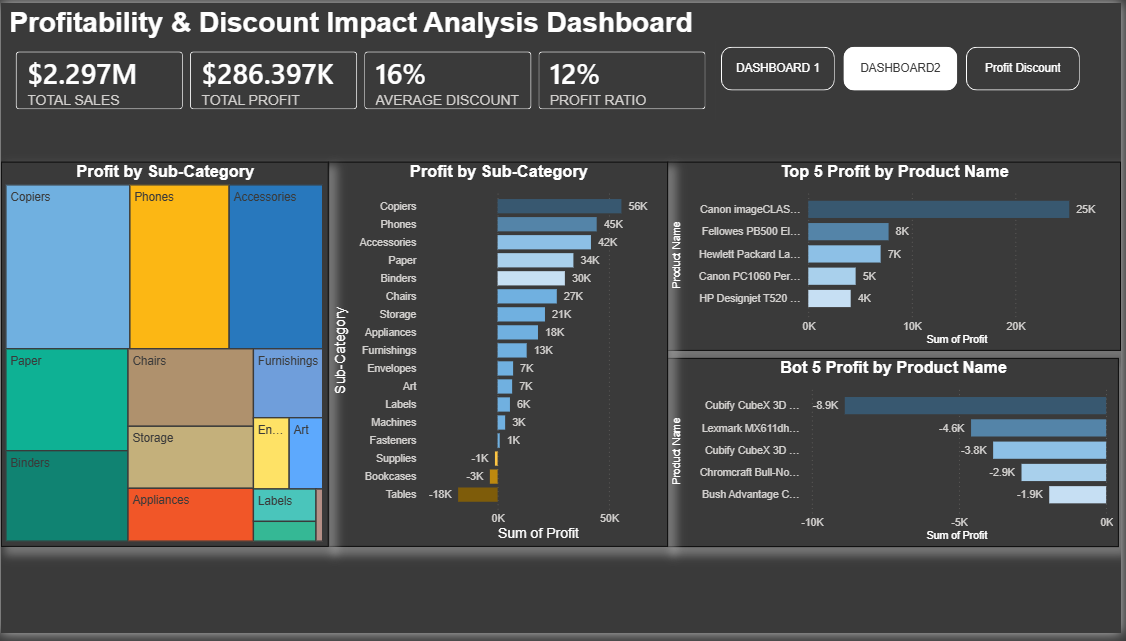

The page's visual inventory and layout, read from the dashboard file:
{"tool":"powerbi","page":{"name":"DASHBOARD2","canvas":[1280,720],"ordinal":1},"visuals":[{"type":"barChart","title":"Top 5 Profit by Product Name","fields":{"Category":["Sample_Superstore_Clean.Product Name"],"Y":["Sum(Sample_Superstore_Clean.Profit)"]},"box":[762,182,518,216],"z":0},{"type":"barChart","title":"Bot 5 Profit by Product Name","fields":{"Category":["Sample_Superstore_Clean.Product Name"],"Y":["Sum(Sample_Superstore_Clean.Profit)"]},"box":[762,406,516,216],"z":1000},{"type":"barChart","title":"Profit by Sub-Category","fields":{"Category":["Sample_Superstore_Clean.Sub-Category"],"Y":["Sum(Sample_Superstore_Clean.Profit)"]},"box":[374,182,388,440],"z":2000},{"type":"textbox","box":[0,0,800,50],"z":3000},{"type":"cardVisual","fields":{"Data":["Sum(Sample_Superstore_Clean.Sales)","Sum(Sample_Superstore_Clean.Profit)","Avg(Sample_Superstore_Clean.Discount)","Sample_Superstore_Clean.Profit Ratio"]},"box":[0,38.6,822.9,100],"z":4000},{"type":"pageNavigator","box":[822.9,50,410,50],"z":5000},{"type":"treemap","title":"Profit by Sub-Category","fields":{"Group":["Sample_Superstore_Clean.Sub-Category"],"Values":["Sum(Sample_Superstore_Clean.Profit)"]},"box":[0,182,374,440],"z":6000}]}

Visuals, with their boxes in screenshot pixels (x1, y1, x2, y2), scaled from the page's 1280x720 canvas onto the 1126x641 screenshot:
"Top 5 Profit by Product Name" barChart: x1=670 y1=162 x2=1125 y2=354
"Bot 5 Profit by Product Name" barChart: x1=670 y1=361 x2=1124 y2=554
"Profit by Sub-Category" barChart: x1=329 y1=162 x2=670 y2=554
textbox: x1=0 y1=0 x2=704 y2=45
cardVisual - Sum(Sample_Superstore_Clean.Sales) x Sum(Sample_Superstore_Clean.Profit): x1=0 y1=34 x2=724 y2=123
pageNavigator: x1=724 y1=45 x2=1085 y2=89
"Profit by Sub-Category" treemap: x1=0 y1=162 x2=329 y2=554
